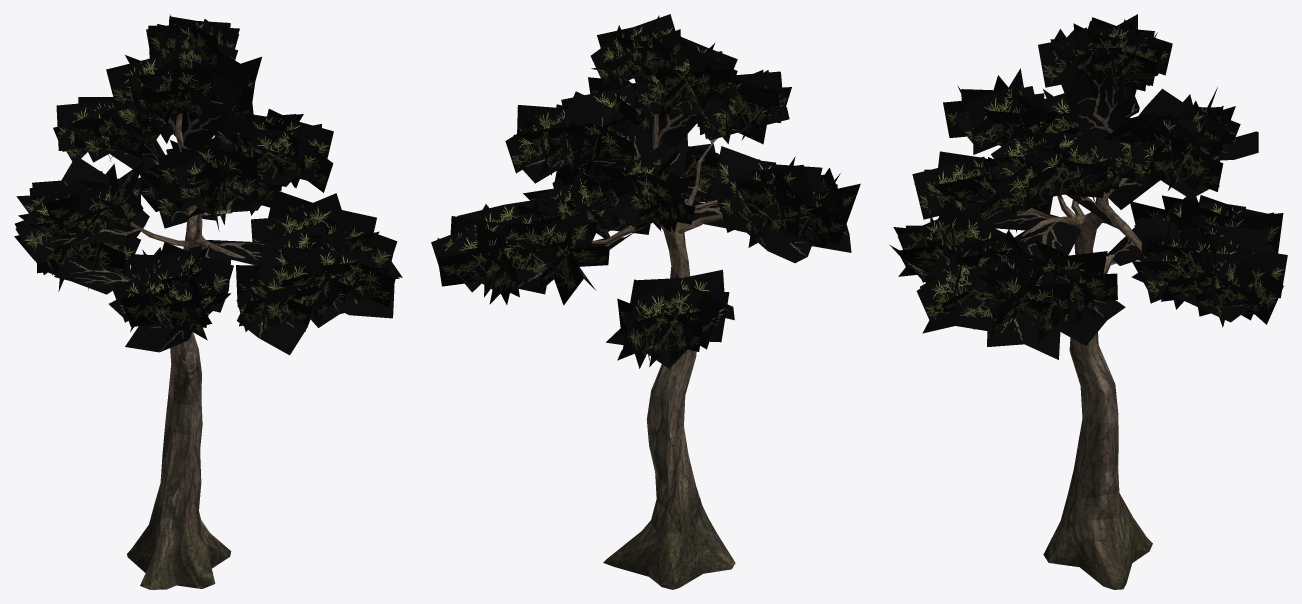
The model's file is bg_anh_tree_pinetree01_sm_ysi.FBX.
3 renders of one model, left to right at view 1: azimuth 30°, elevation 25°; view 2: azimuth 150°, elevation 25°; view 3: azimuth 270°, elevation 25°, orthographic.
Parts seen in each view (by area): view 1: bg_anh_tree_pinetree01_sm_ysi; view 2: bg_anh_tree_pinetree01_sm_ysi; view 3: bg_anh_tree_pinetree01_sm_ysi.
Part boxes in pixels (x1,y1,x2,y2): bg_anh_tree_pinetree01_sm_ysi: (14, 14, 402, 589); bg_anh_tree_pinetree01_sm_ysi: (431, 14, 860, 589); bg_anh_tree_pinetree01_sm_ysi: (890, 14, 1287, 589).
Size of the model in its own units: 285 by 429 by 284.
